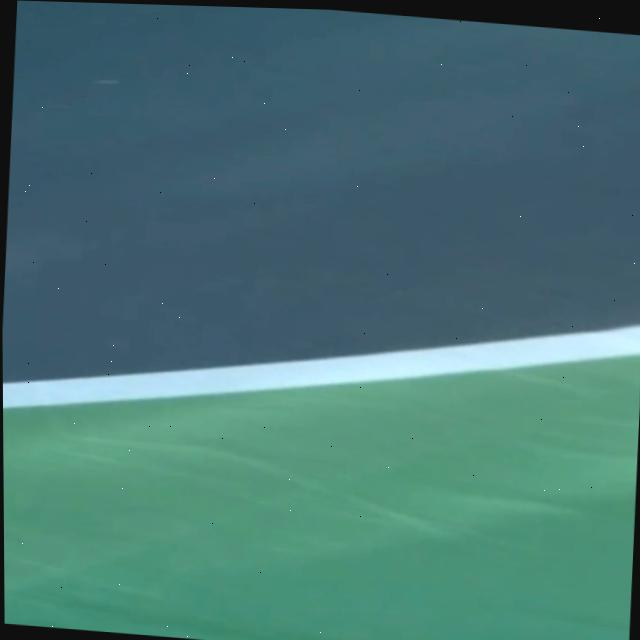right: (3, 324, 640, 407)
